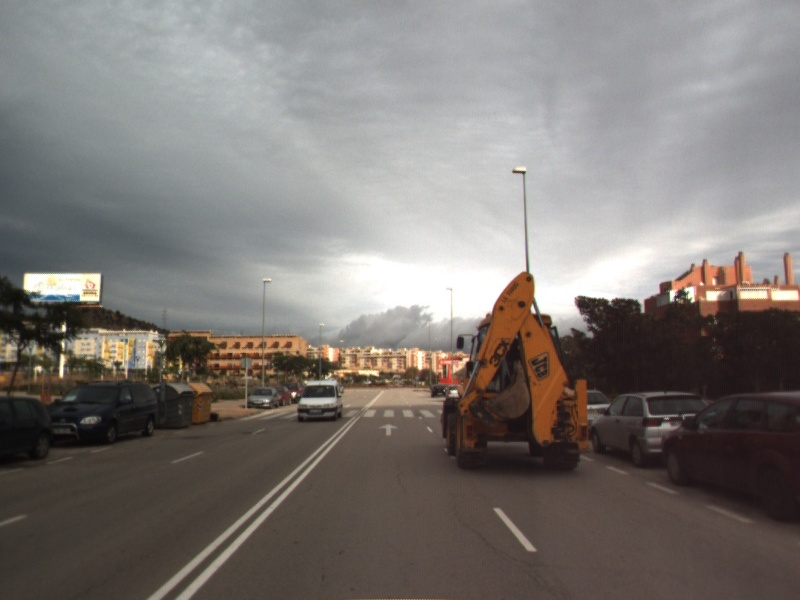STRAIGHT: (377, 421, 401, 438)
